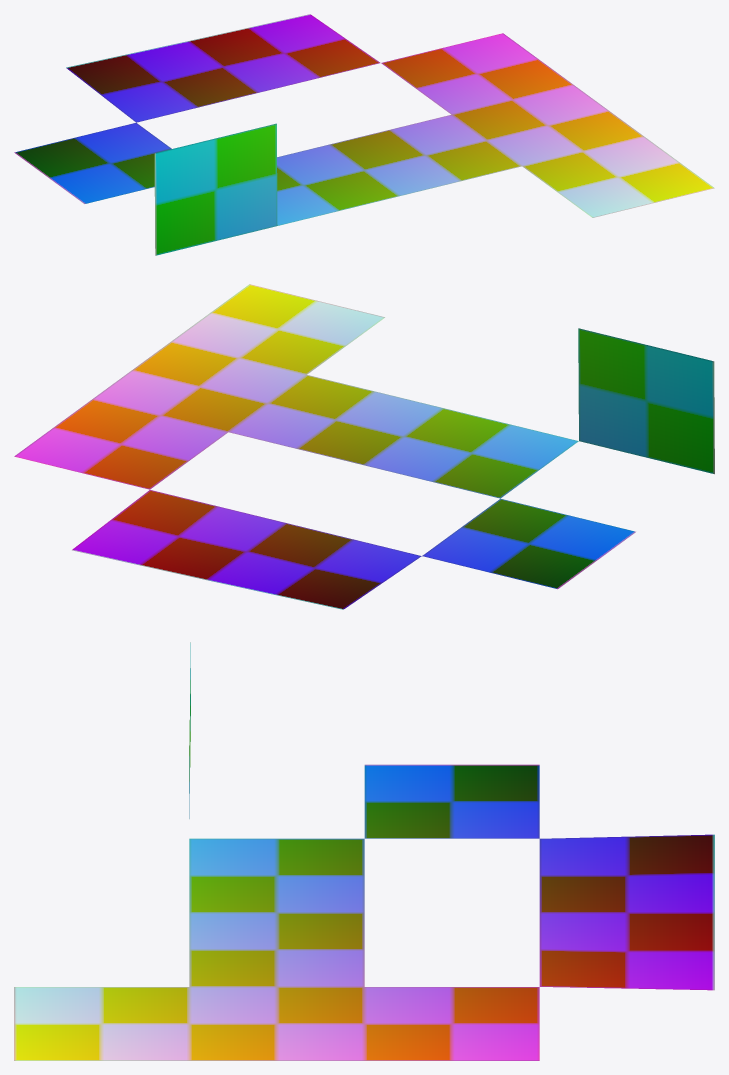
The model's file is texture_test.dae.
The picture shows the model from 3 angles, top to bottom: view 1: azimuth 30°, elevation 25°; view 2: azimuth 150°, elevation 25°; view 3: azimuth 270°, elevation 25°; orthographic projection. The views are drawn at different scales.
Parts seen in each view (by area): view 1: Plane; view 2: Plane; view 3: Plane.
Part boxes in pixels (x1,y1,x2,y2): Plane: (14, 14, 714, 255); Plane: (14, 284, 714, 609); Plane: (14, 642, 714, 1060).
Size of the model in its own units: 2 by 2 by 0.4096.
